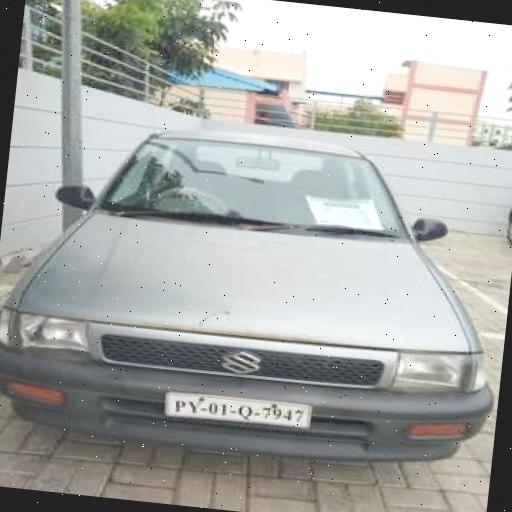license_plate`: (164, 388, 307, 426)
